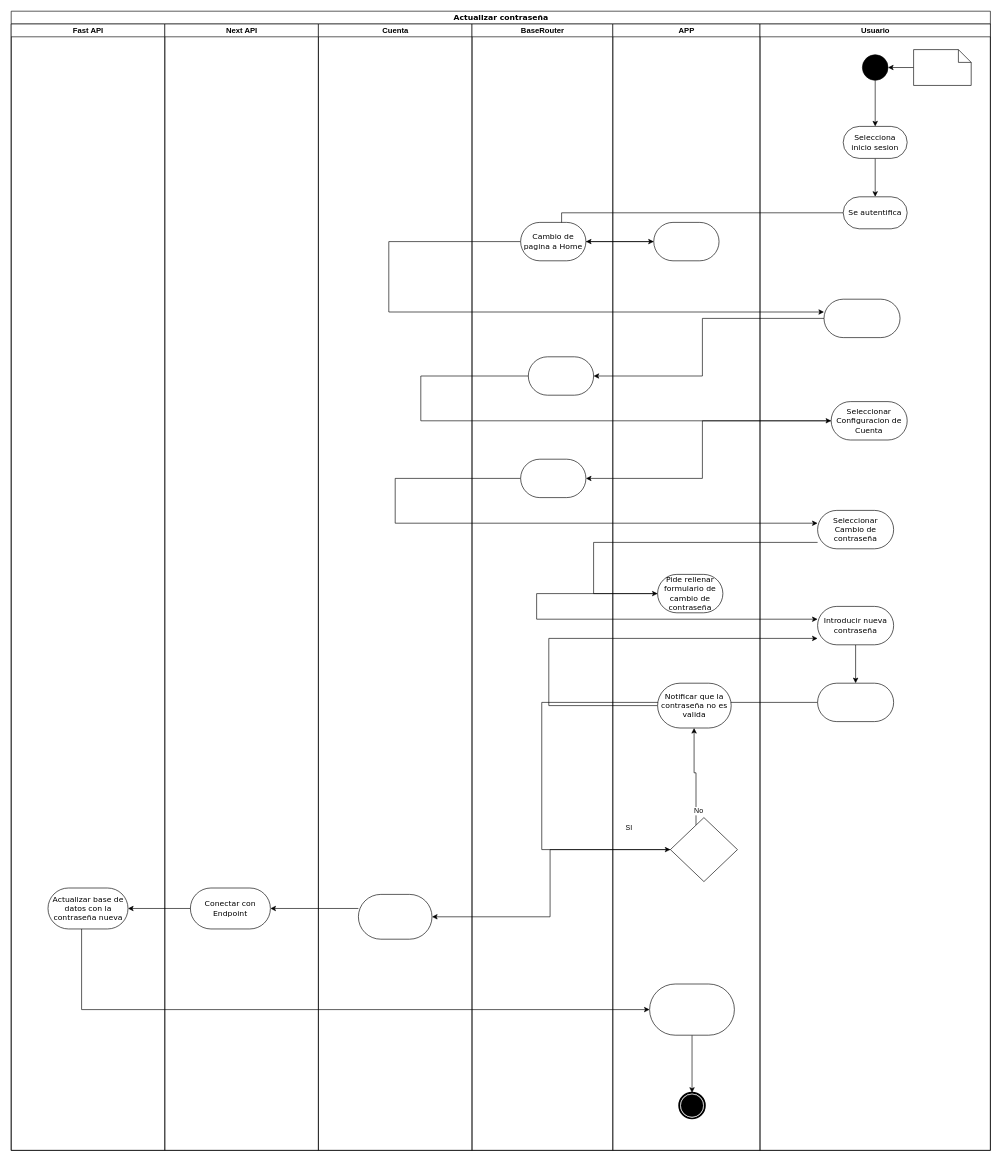
Image size: 1002x1162. Some labels were removed from this diagram. Here are the shapes that lost their labels. From the top down, the centre of each, then its label:
At [942,67]: "Usuario Registrado".
At [686,241]: "Notificar que inicio sesion correctamente".
At [861,318]: "Seleccionar Cuenta".
At [561,375]: "Cambio de pagina a Cuenta".
At [553,478]: "Cambio de pagina a configuracion".
At [855,702]: "Confirmar cambio de contraseña".
At [703,849]: "¿La contraseña es valida?".
At [395,916]: "Enviar contraseña cambiada".
At [691,1009]: "Notificar que el cambio de contraseña fue exitoso".
